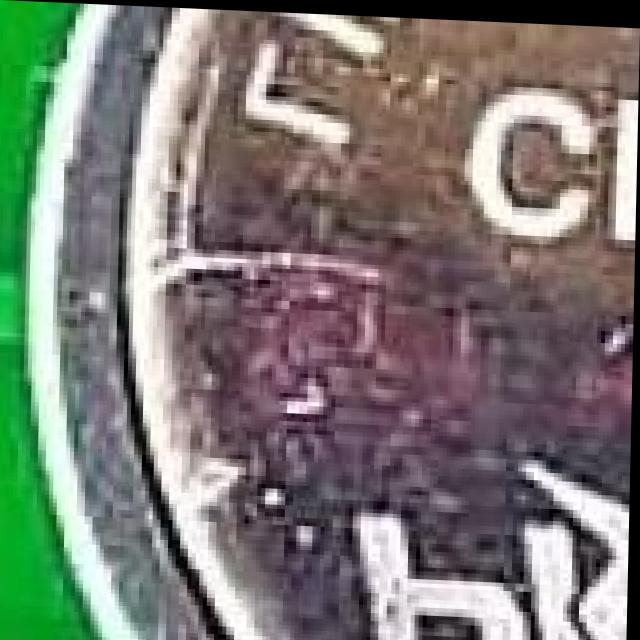battery: (97, 4, 640, 640)
